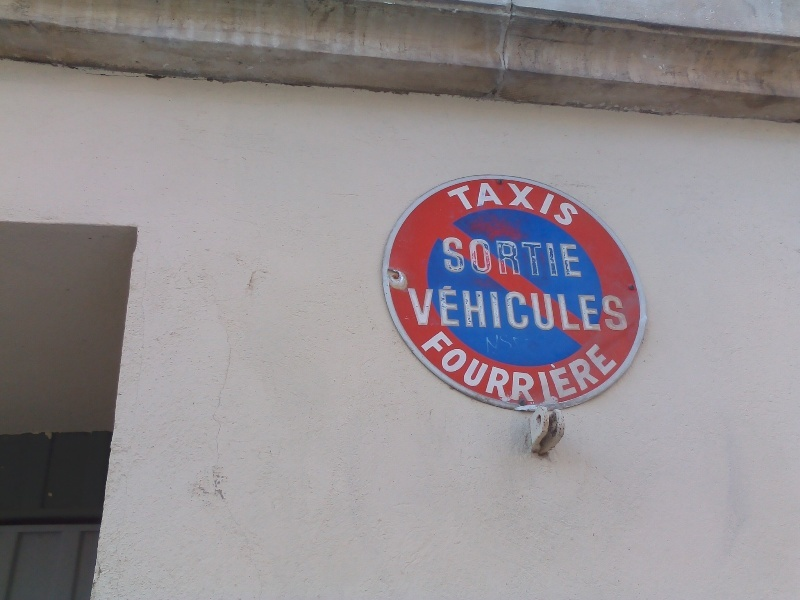text: (417, 328, 432, 404), (433, 328, 448, 404), (449, 328, 464, 404), (465, 328, 480, 404), (481, 328, 496, 404), (497, 328, 512, 404), (513, 328, 528, 404), (529, 328, 544, 404), (545, 328, 560, 404), (561, 328, 576, 404), (577, 328, 592, 404), (593, 328, 608, 404), (609, 328, 620, 404), (449, 177, 464, 230), (465, 177, 480, 230), (481, 177, 496, 230), (497, 177, 512, 230), (513, 177, 528, 230), (529, 177, 544, 230), (545, 177, 560, 230), (561, 177, 576, 230), (577, 177, 592, 230), (417, 284, 432, 336), (433, 284, 448, 336), (449, 284, 464, 336), (465, 284, 480, 336), (481, 284, 496, 336), (497, 284, 512, 336), (513, 284, 528, 336), (529, 284, 544, 336), (545, 284, 560, 336), (561, 284, 576, 336), (577, 284, 592, 336), (593, 284, 608, 336), (609, 284, 624, 336), (449, 237, 464, 278), (465, 237, 480, 278), (481, 237, 496, 278), (497, 237, 512, 278), (513, 237, 528, 278), (529, 237, 544, 278), (545, 237, 560, 278), (561, 237, 576, 278), (406, 284, 416, 336), (577, 237, 584, 278), (625, 284, 630, 336), (442, 237, 448, 278), (444, 177, 448, 230), (414, 328, 416, 404), (593, 177, 594, 230)
